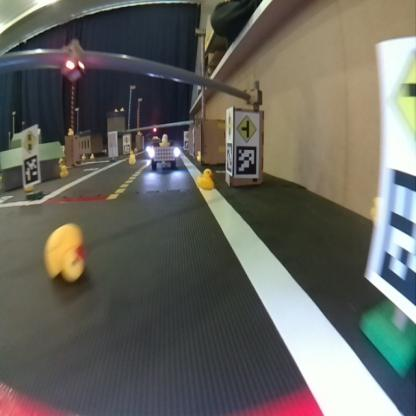Duckie: (45, 223, 84, 279), (197, 168, 212, 189), (159, 134, 169, 146), (128, 153, 135, 163), (62, 165, 68, 174)
Duckiebot: (148, 142, 178, 167)
Intersection sign: (235, 112, 258, 143)
QR code: (377, 169, 412, 308), (235, 145, 258, 176), (224, 144, 231, 172)
Signal sign: (21, 126, 37, 152), (226, 108, 233, 140)
Traffic light: (63, 40, 82, 78)
